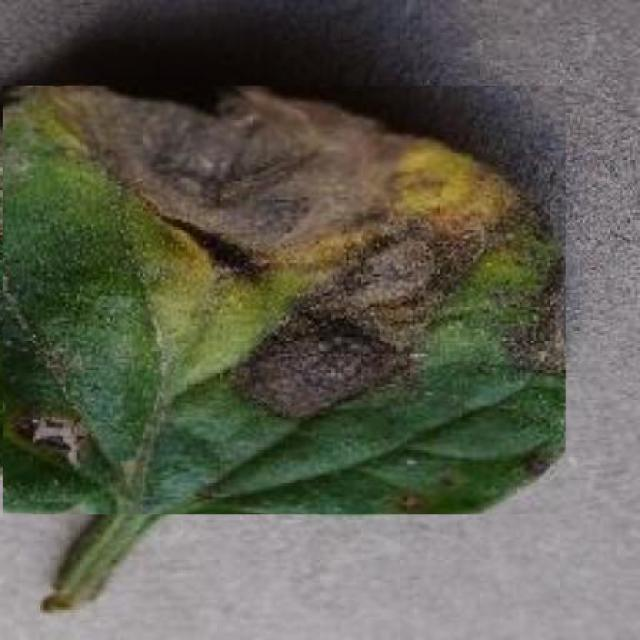Early Blight: (3, 85, 566, 515)
